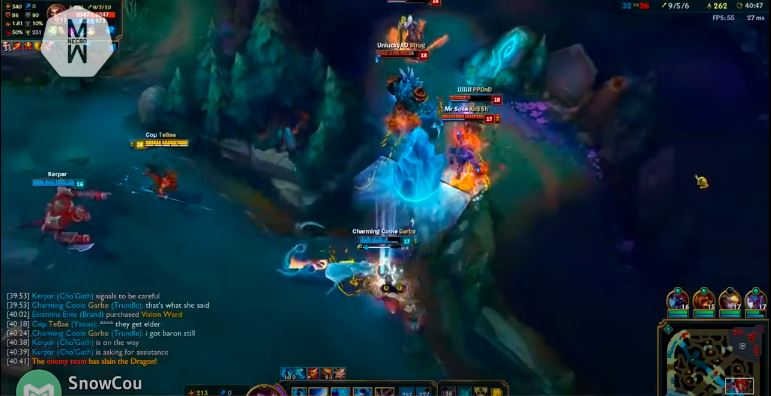bar: (357, 232, 414, 249), (437, 112, 500, 125), (30, 177, 88, 191), (133, 138, 190, 151), (373, 48, 430, 61), (445, 93, 503, 105), (384, 1, 445, 9)
